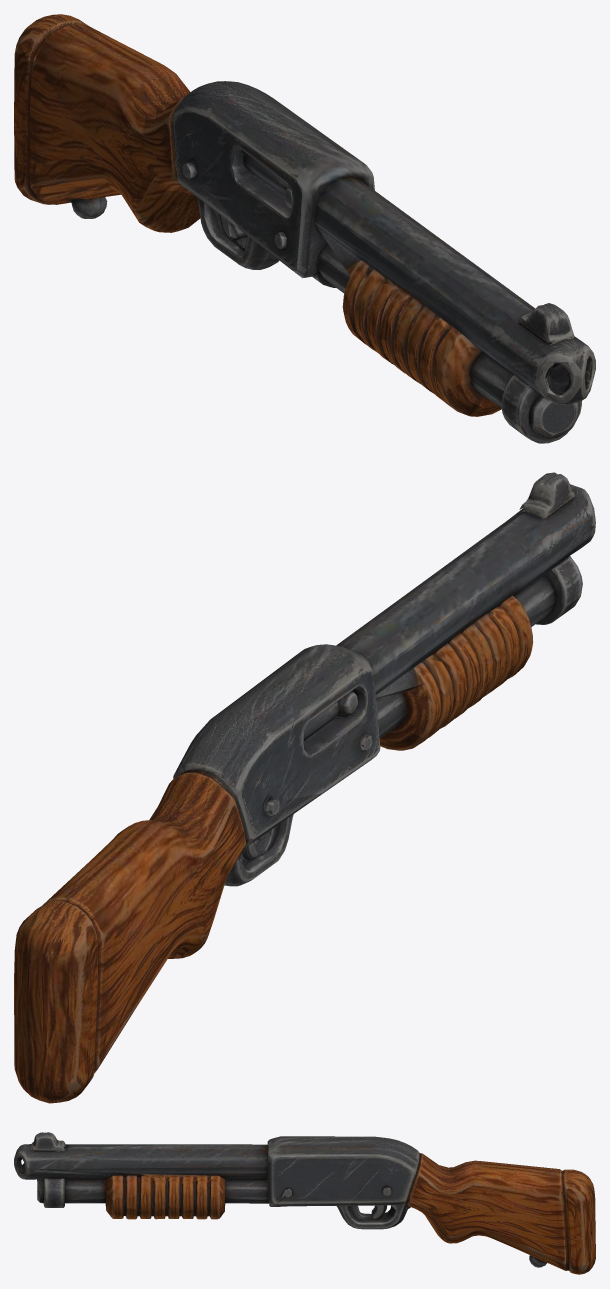
The model's file is gun_gauge.glb.
3 renders of one model, top to bottom at view 1: azimuth 30°, elevation 25°; view 2: azimuth 150°, elevation 25°; view 3: azimuth 270°, elevation 25°, orthographic. The views are drawn at different scales.
Bounding box in the file's own units: 0.1611 × 0.4345 × 1.65.
1 material, 1 textured.
